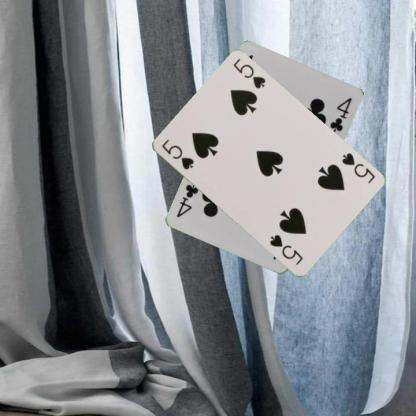5s: (339, 150, 376, 185), (159, 137, 195, 171)
